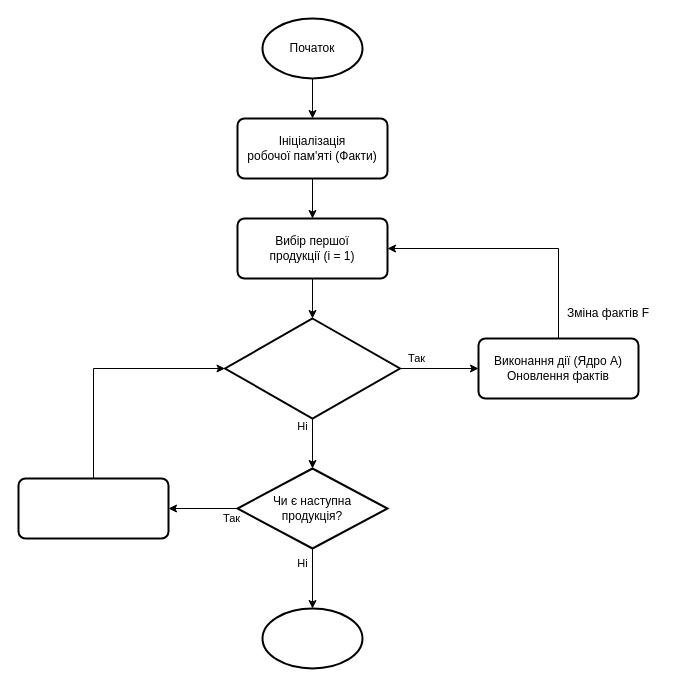
This 675x686 diagram has some shape labels left out. Here are the shapes that lost their labels. From the top down, the centre of each, then its label:
At (x=312, y=368): "Умова продукції P(i) істинна?".
At (x=93, y=508): "Перехід до наступної продукції (i = i + 1)".
At (x=312, y=638): "Кінець".
